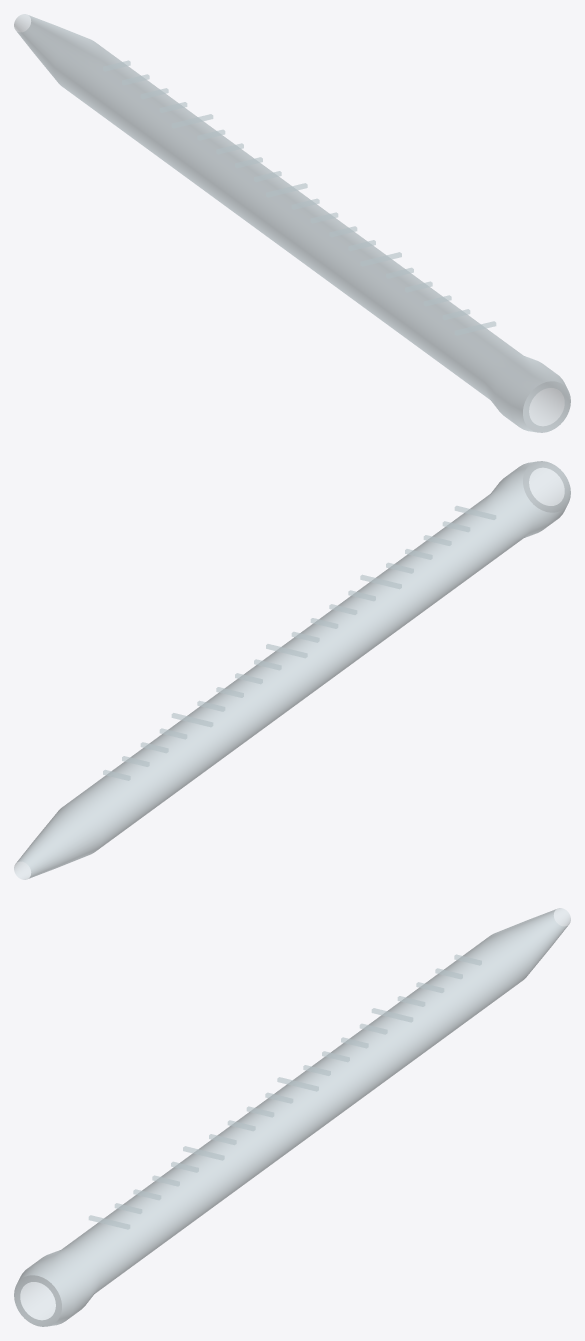
The model's file is modelo.glb.
3 renders of one model, top to bottom at view 1: azimuth 30°, elevation 25°; view 2: azimuth 150°, elevation 25°; view 3: azimuth 330°, elevation 25°, orthographic.
Visible parts, largest first — view 1: Pipeta Graduada; view 2: Pipeta Graduada; view 3: Pipeta Graduada.
Boxes of the visible parts, x1,y1,x2,y2 form: Pipeta Graduada: (14,14,570,432); Pipeta Graduada: (14,461,570,879); Pipeta Graduada: (14,908,570,1326).
Bounding box in the file's own units: 0.0186 × 0.0186 × 0.3.
